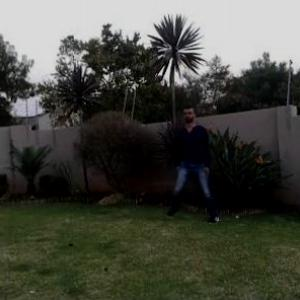follow: (176, 98, 212, 219)
